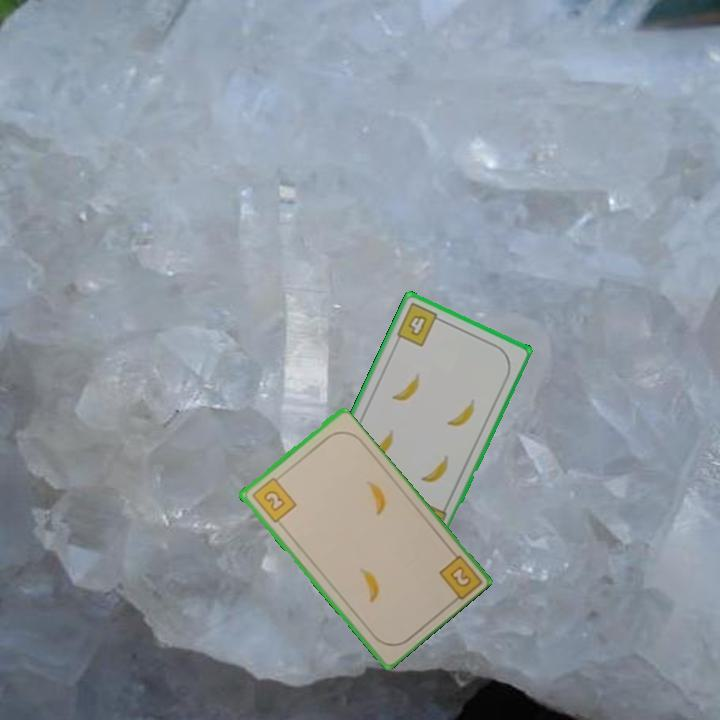2b: (248, 471, 299, 525), (446, 562, 474, 590)
4b: (393, 299, 446, 349)
